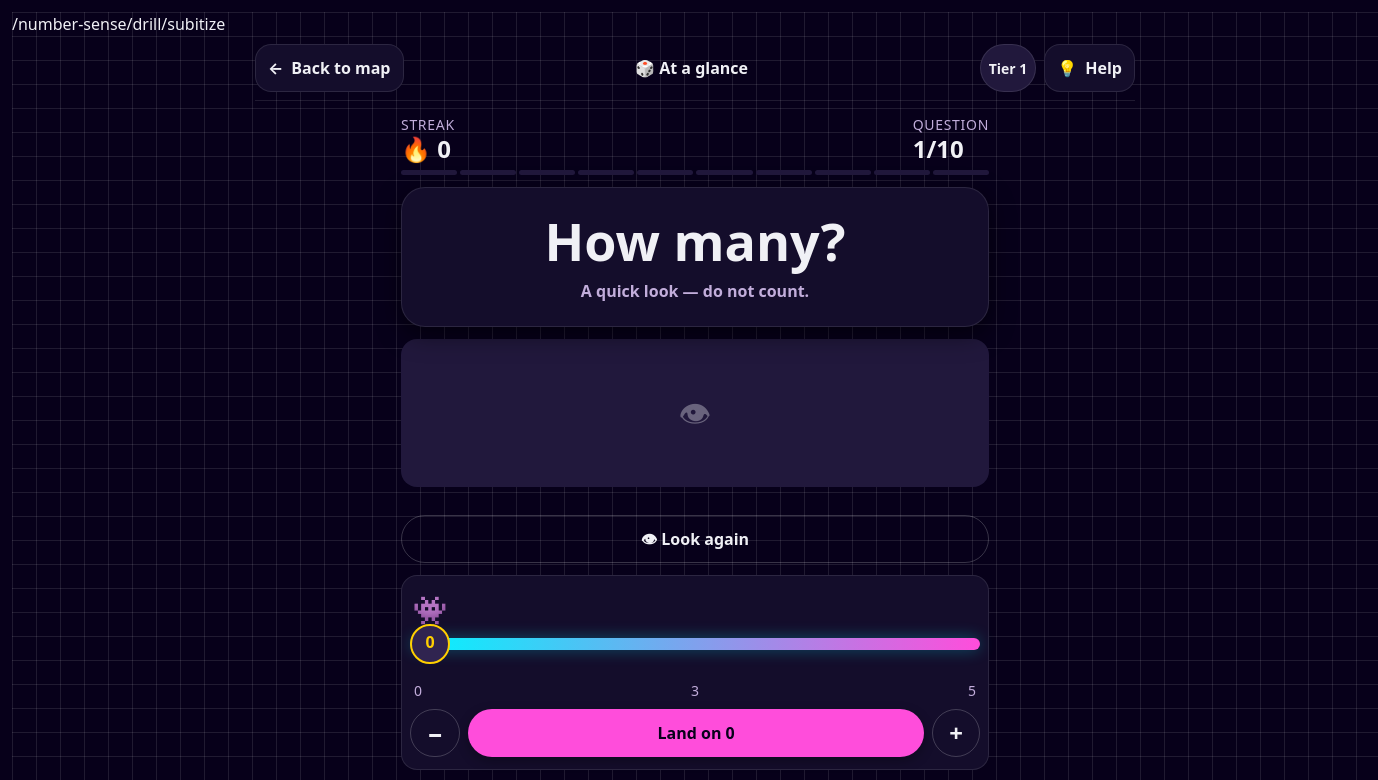
Test: SenseDrillPage › puts the pattern back on request
This screenshot has width=1378, height=780.
Step 1. Click the button "👁 Look again" → (695, 539), box [401, 515, 989, 563]
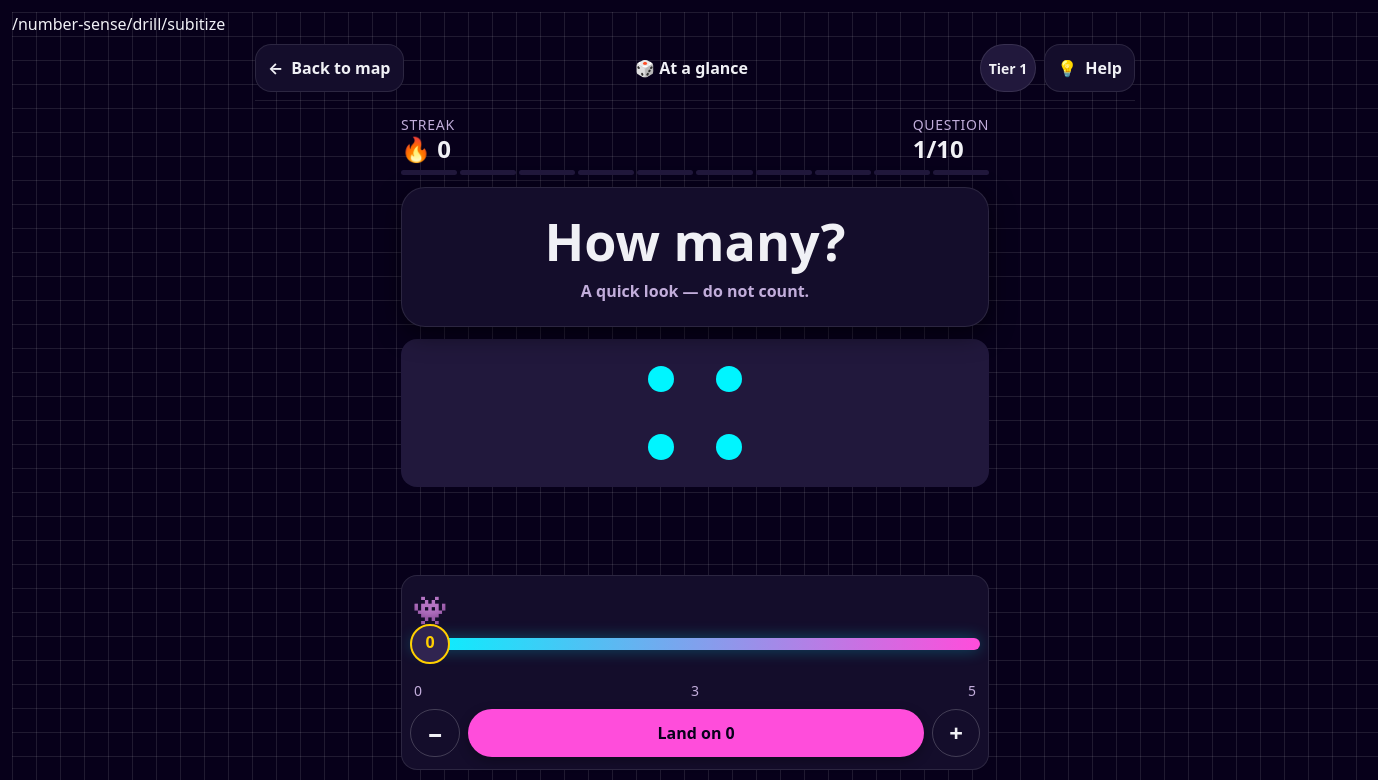
Expected: the 1st element with class "sense-dot" is shown, [648, 366, 674, 392]
